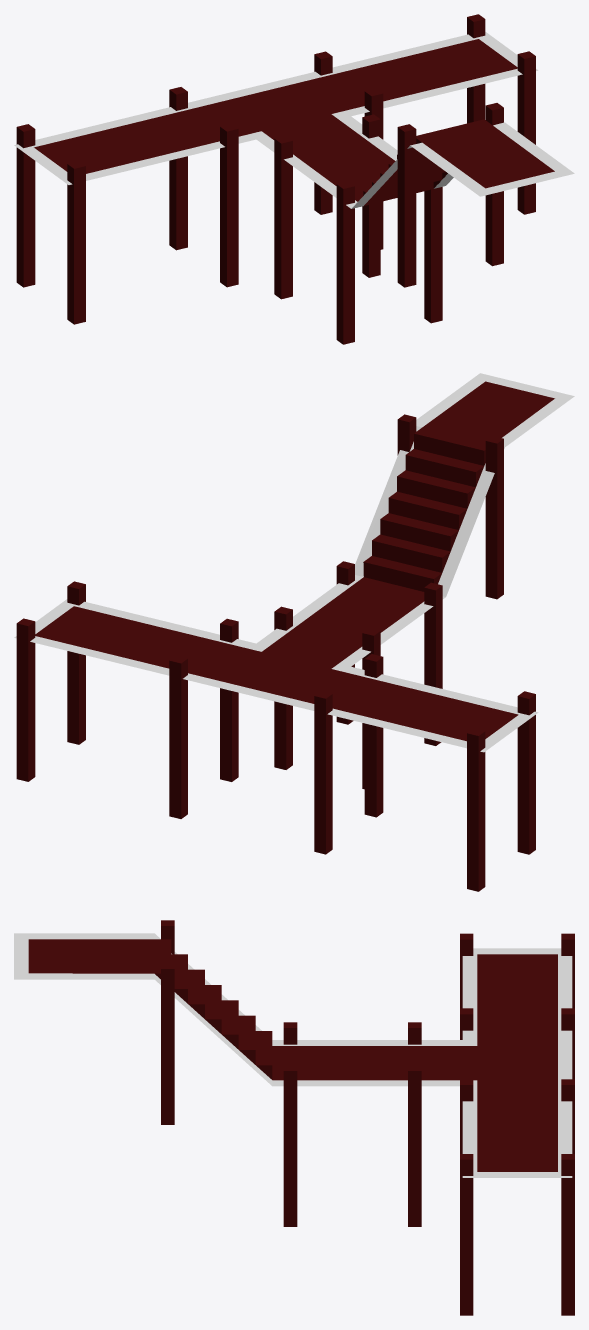
Rendered from FBX_PortTwo.fbx.
3 renders of one model, top to bottom at view 1: azimuth 30°, elevation 25°; view 2: azimuth 150°, elevation 25°; view 3: azimuth 270°, elevation 25°, orthographic.
Visible parts, largest first — view 1: FBX_PortTwo; view 2: FBX_PortTwo; view 3: FBX_PortTwo.
Part boxes in pixels (<box>): FBX_PortTwo: <box>14,14,574,344</box>; FBX_PortTwo: <box>14,373,574,891</box>; FBX_PortTwo: <box>14,920,574,1315</box>.
Bounding box in the file's own units: 600 × 314 × 619.
